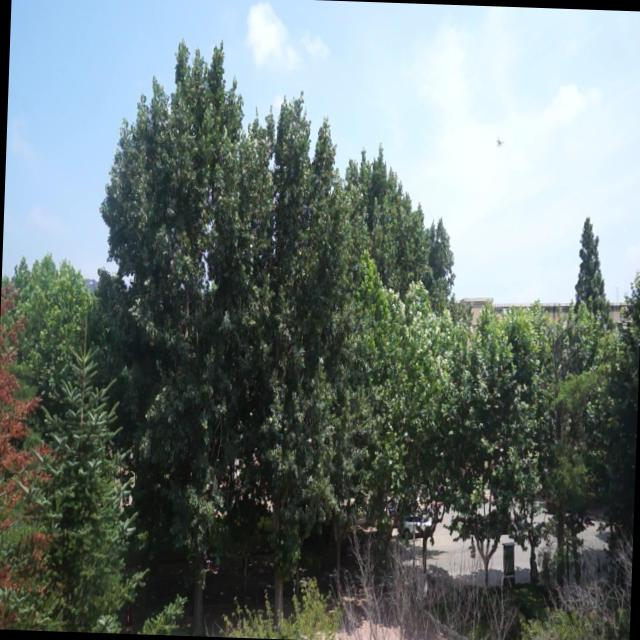drone: (492, 130, 508, 155)
